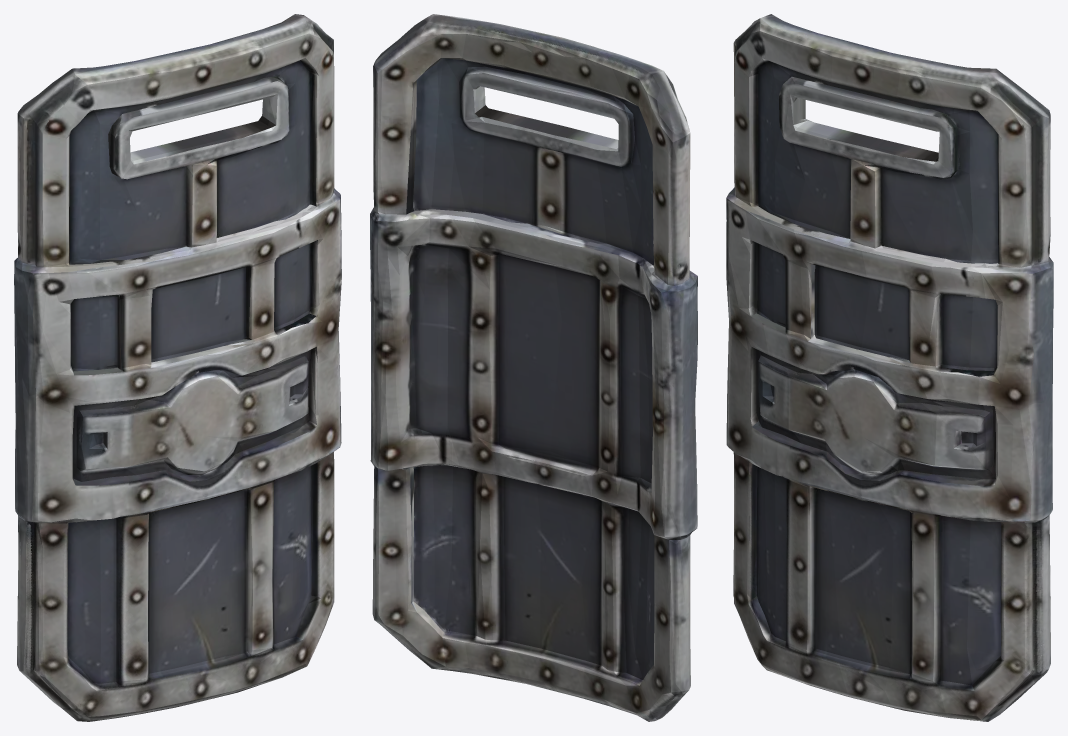
File: riot-shield.glb
3 views of the same model, side by side, from view 1: azimuth 30°, elevation 25°; view 2: azimuth 150°, elevation 25°; view 3: azimuth 330°, elevation 25° (orthographic).
Visible parts, largest first — view 1: riot-shield; view 2: riot-shield; view 3: riot-shield.
Boxes of the visible parts, x1,y1,x2,y2 form: riot-shield: [14, 14, 341, 721]; riot-shield: [370, 14, 697, 721]; riot-shield: [726, 14, 1053, 721].
Bounding box in the file's own units: 0.4349 × 0.85 × 0.101.
1 material, 1 textured.
